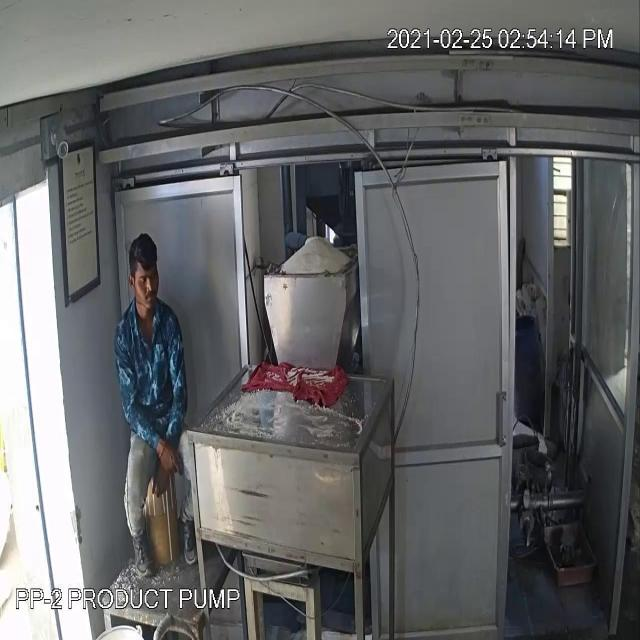no-helmet: (126, 228, 166, 292)
